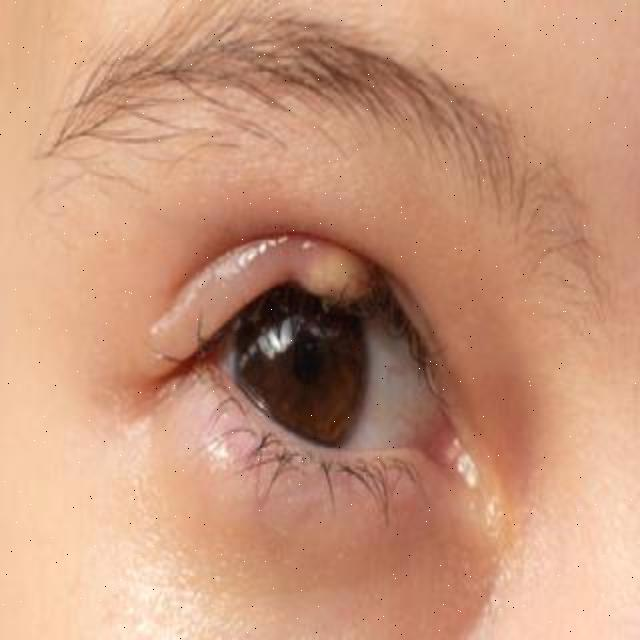Stye: (240, 234, 440, 326)
